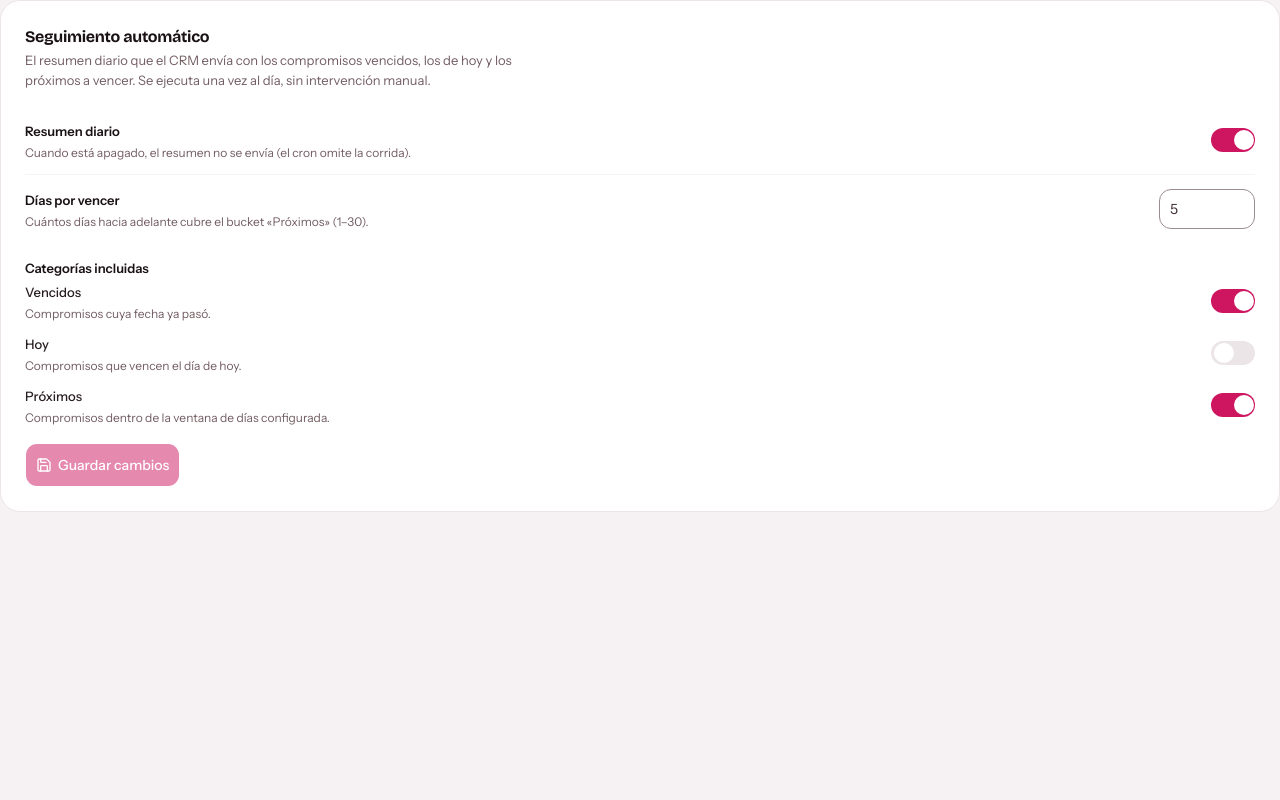
AutomatizacionesVista — administrador › shows a success confirmation after saving
The image size is (1280, 800).
Click the switch named "Resumen diario" at [1233, 140], box [1211, 128, 1255, 152]
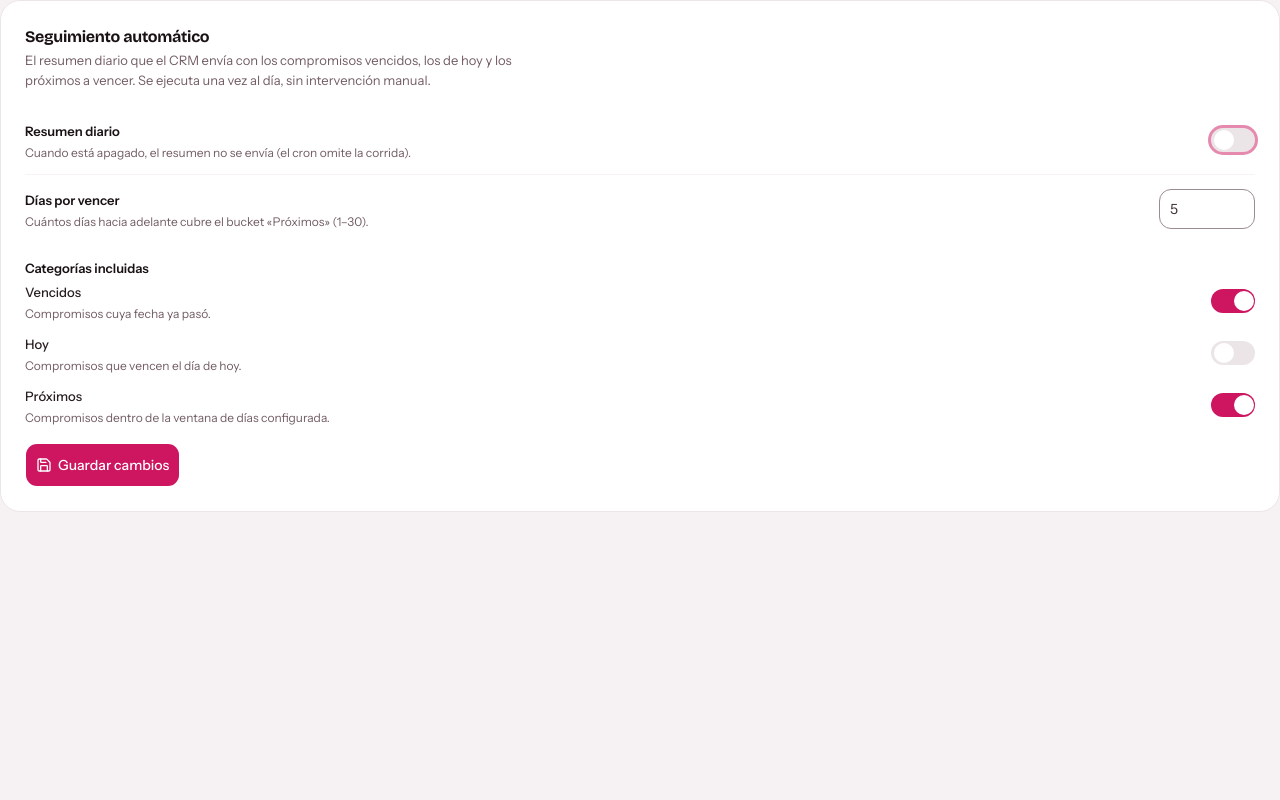
Click the button "Guardar cambios" at [103, 464], box [25, 442, 180, 486]
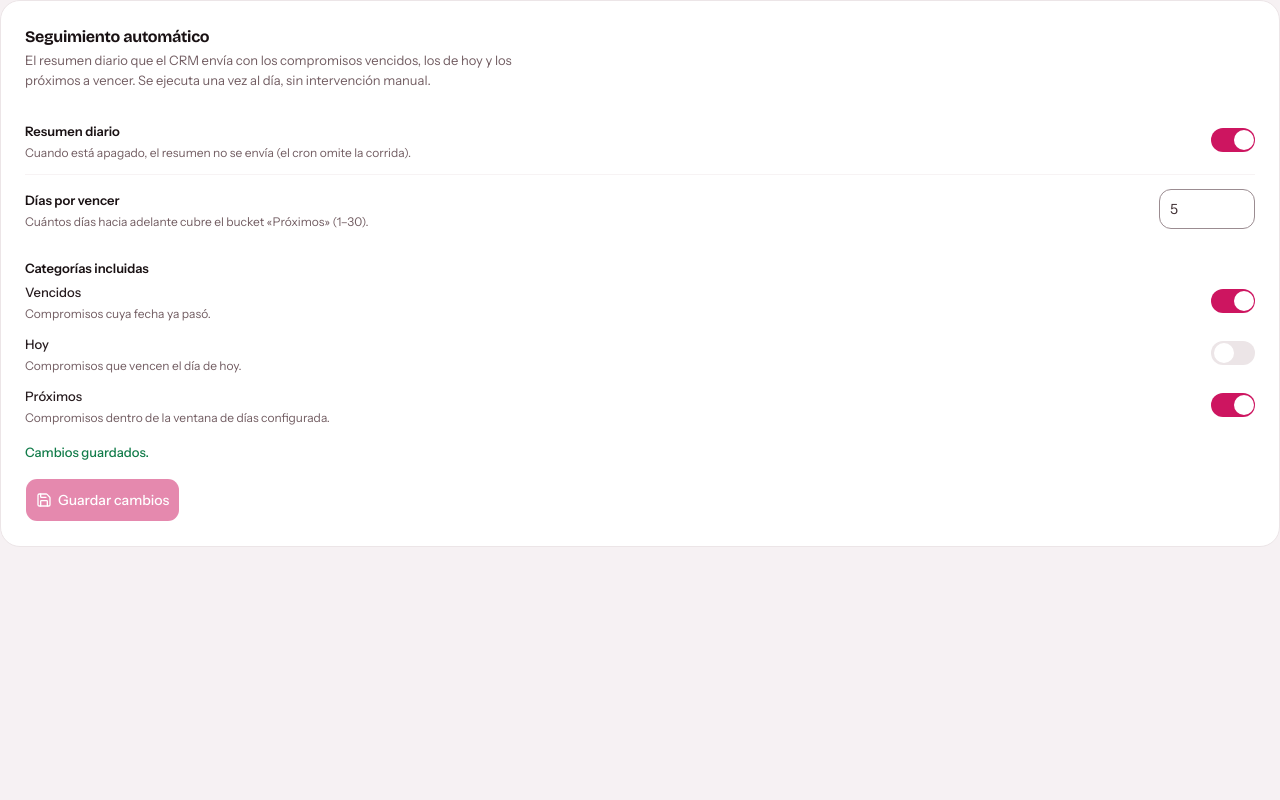
Expected: the text "Cambios guardados." is shown, [25, 444, 149, 460]
